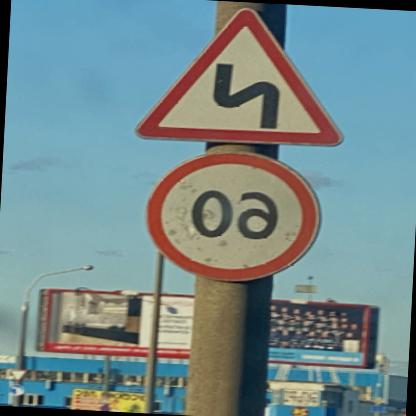speedlimit: (143, 143, 326, 284)
